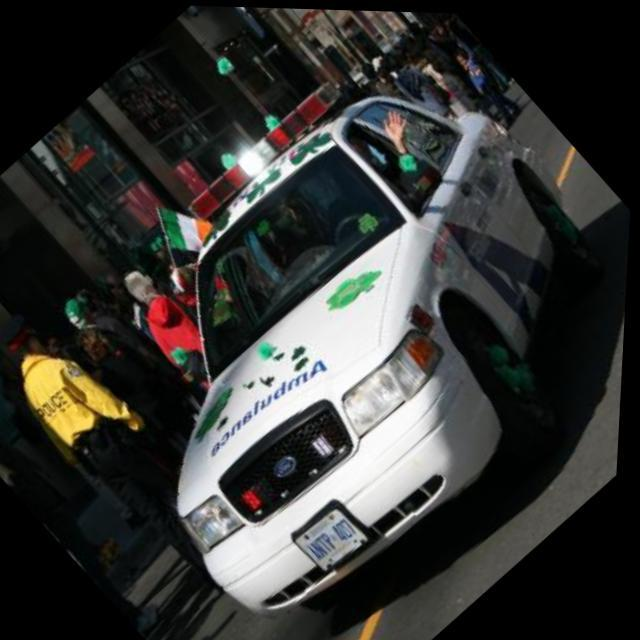license_plate: (296, 498, 379, 580)
